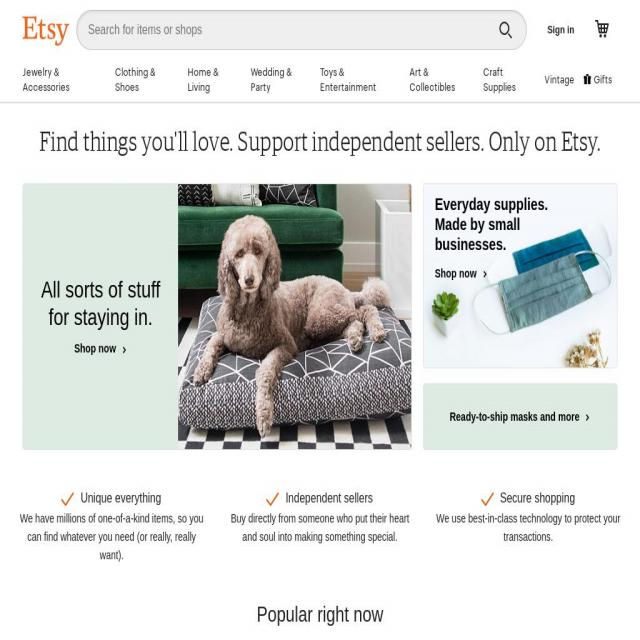login-option: (540, 12, 580, 52)
navigation-links: (5, 58, 623, 107)
search: (74, 7, 532, 53)
